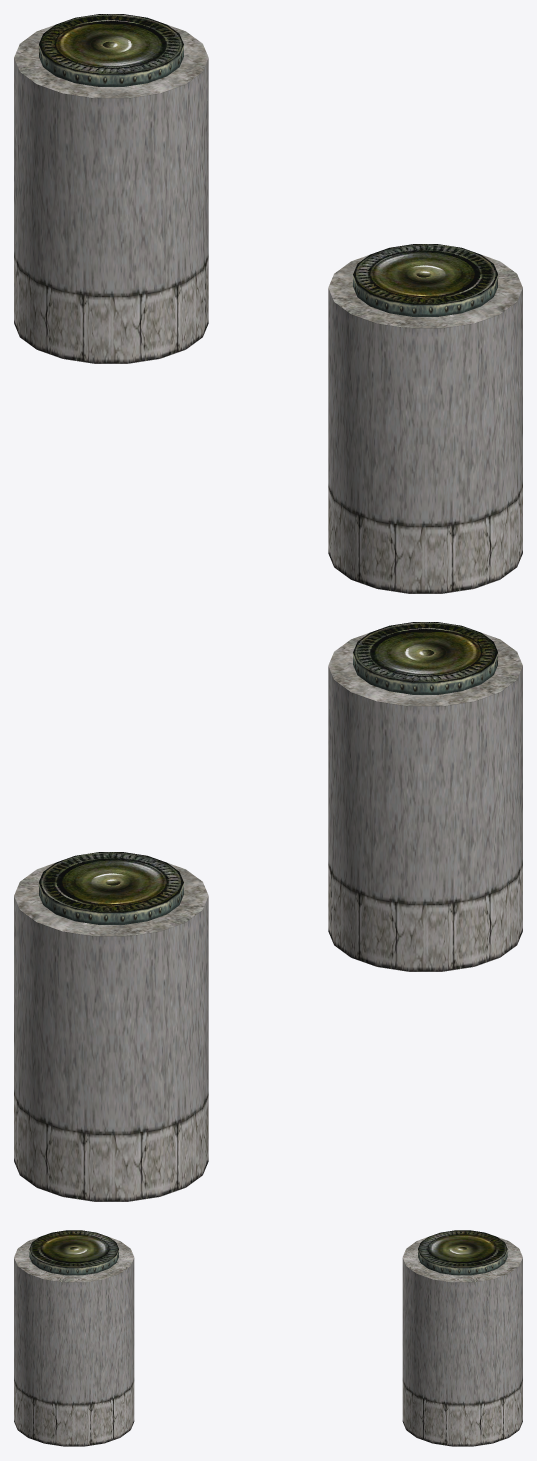
Rendered from DWARF_PALACE_BASE_PEDITALS.fbx.
3 views of the same model, one above another, from view 1: azimuth 30°, elevation 25°; view 2: azimuth 150°, elevation 25°; view 3: azimuth 270°, elevation 25° (orthographic). The views are drawn at different scales.
Visible parts, largest first — view 1: DWARF_PALACE_BASE_PEDITALS; view 2: DWARF_PALACE_BASE_PEDITALS; view 3: DWARF_PALACE_BASE_PEDITALS.
Boxes of the visible parts, box(x1,y1,x2,y2) form: DWARF_PALACE_BASE_PEDITALS: box(14, 14, 522, 593); DWARF_PALACE_BASE_PEDITALS: box(14, 622, 522, 1201); DWARF_PALACE_BASE_PEDITALS: box(14, 1230, 522, 1446).
Bounding box in the file's own units: 33877 × 54384 × 145421.
5 materials, 5 textured.
